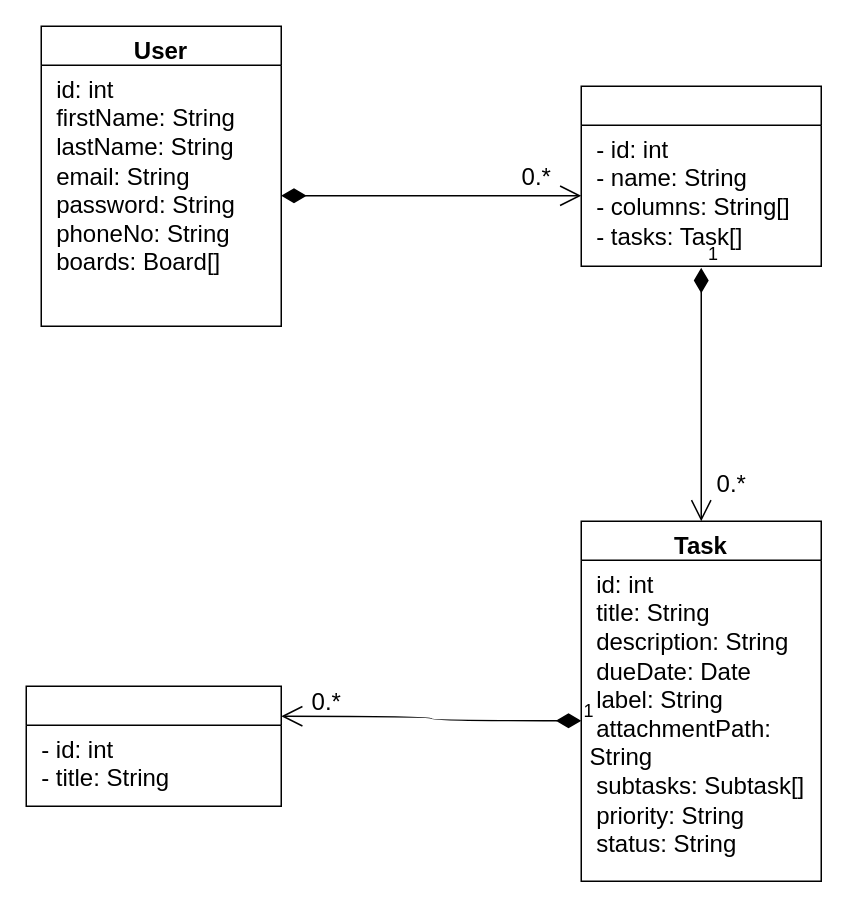
Some shapes in this 848 by 912 pixel diagram are drawn without their labels. Here are the shapes that lost their labels. From the top down, the box of each, then its label:
(580, 85, 821, 266): Board
(25, 685, 281, 806): Subtask
